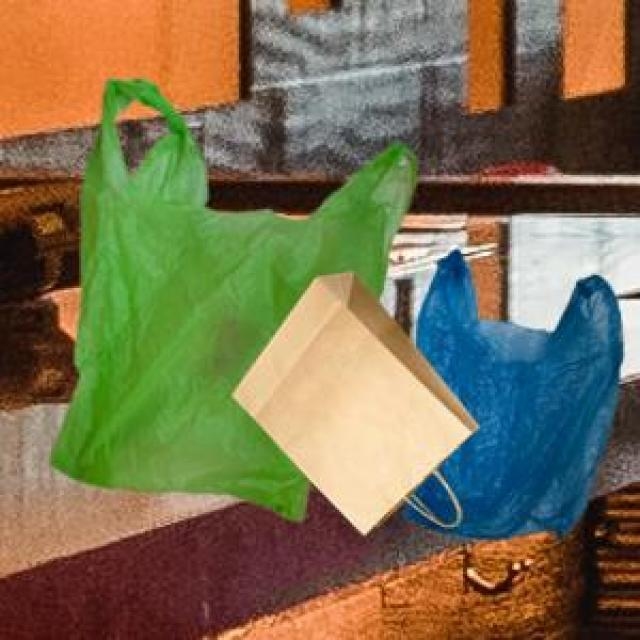paper: (228, 267, 474, 529)
